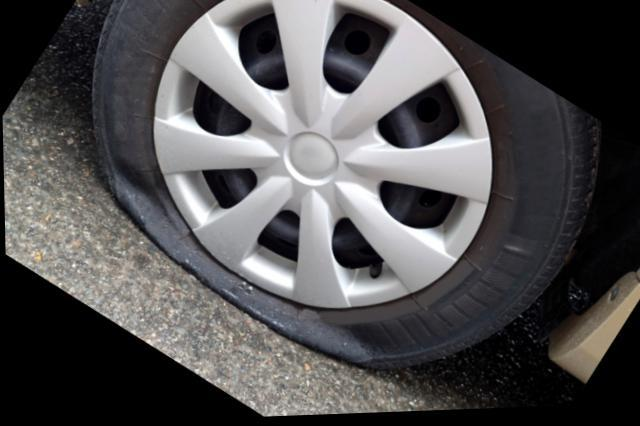tire flat: (91, 0, 602, 374)
